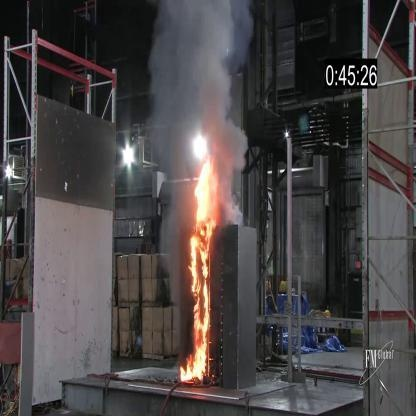fire: (182, 173, 225, 384)
smoke: (161, 0, 244, 166)
